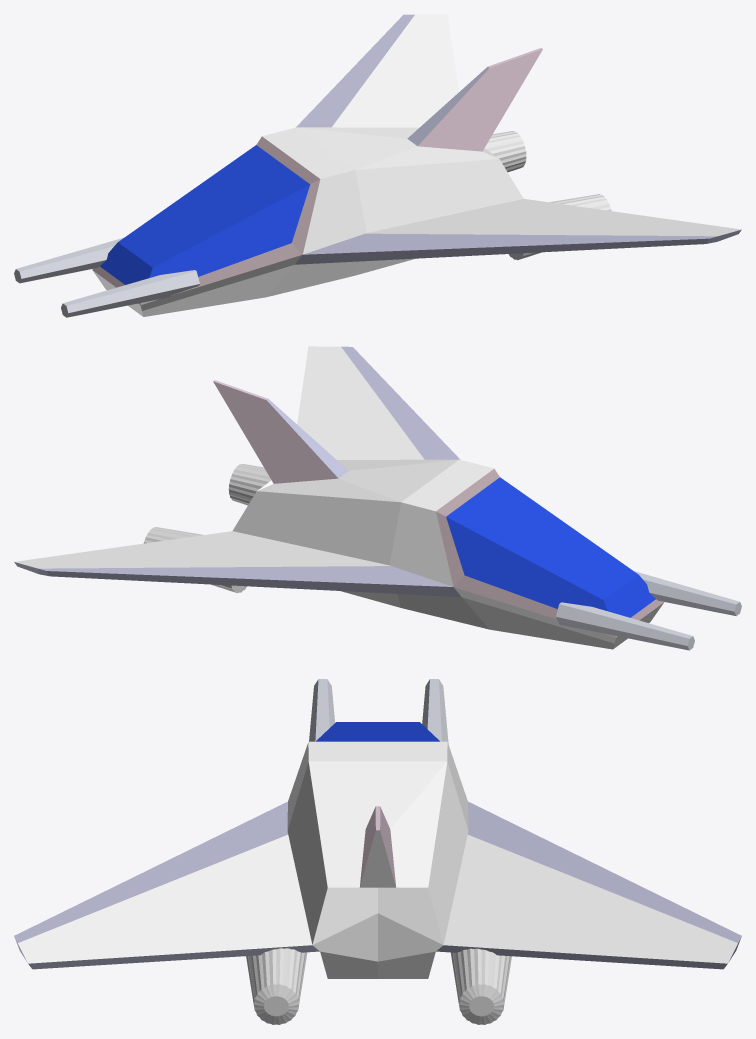
File: playerShipModel.fbx
3 renders of one model, top to bottom at view 1: azimuth 30°, elevation 25°; view 2: azimuth 150°, elevation 25°; view 3: azimuth 270°, elevation 25°, orthographic. The views are drawn at different scales.
Parts seen in each view (by area): view 1: ShipBody, Gun1.002, Gun1.001, Turbine1.001, Turbine1; view 2: ShipBody, Gun1.001, Gun1.002, Turbine1, Turbine1.001; view 3: ShipBody, Turbine1, Turbine1.001, Gun1.001, Gun1.002.
Part boxes in pixels (left/top/right/bottom): ShipBody: left=92, top=14, right=741, bottom=316; Gun1.002: left=61, top=270, right=199, bottom=317; Gun1.001: left=14, top=237, right=123, bottom=283; Turbine1.001: left=485, top=131, right=526, bottom=172; Turbine1: left=508, top=194, right=611, bottom=260; ShipBody: left=14, top=346, right=664, bottom=649; Gun1.001: left=556, top=602, right=694, bottom=650; Gun1.002: left=634, top=571, right=741, bottom=616; Turbine1: left=228, top=463, right=271, bottom=505; Turbine1.001: left=143, top=527, right=246, bottom=593; ShipBody: left=14, top=722, right=741, bottom=978; Turbine1: left=246, top=948, right=307, bottom=1024; Turbine1.001: left=450, top=948, right=511, bottom=1024; Gun1.001: left=422, top=679, right=448, bottom=744; Gun1.002: left=309, top=679, right=334, bottom=741.
Size of the model in its own units: 1096 by 305 by 1050.
